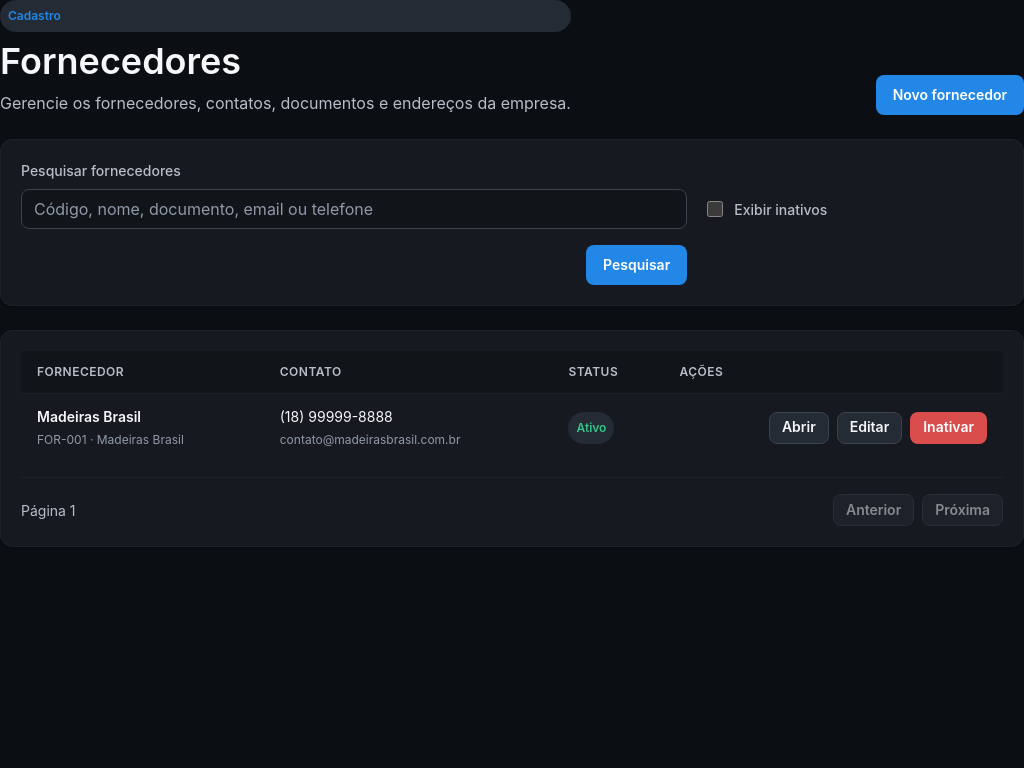
Test: SuppliersRoute › inativa um fornecedor após a confirmação
Expected: the button "Madeiras Brasil" is shown, [37,406,141,427]
Click the button "Inativar": (949, 428) [910,412,987,444]
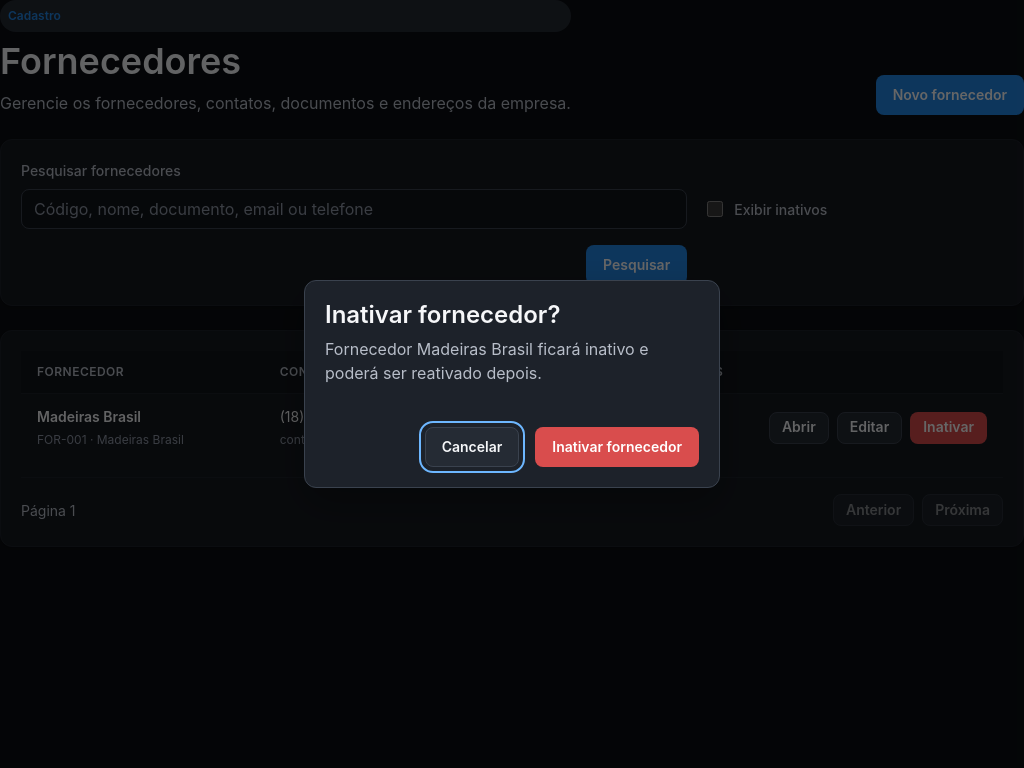
Expected: the text "Inativar fornecedor?" is shown, [325,300,560,329]
Click the button "Inativar fornecedor": (617, 447) [535,427,699,467]
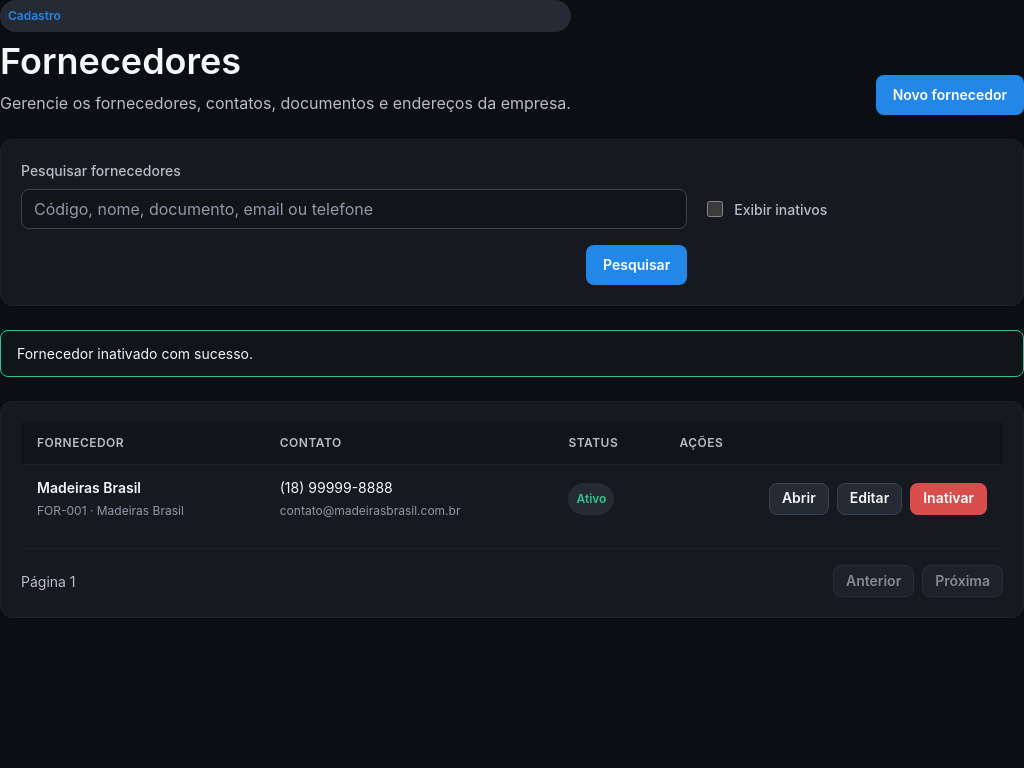
Expected: the text "Fornecedor inativado com sucesso." is shown, [0,330,1023,377]
